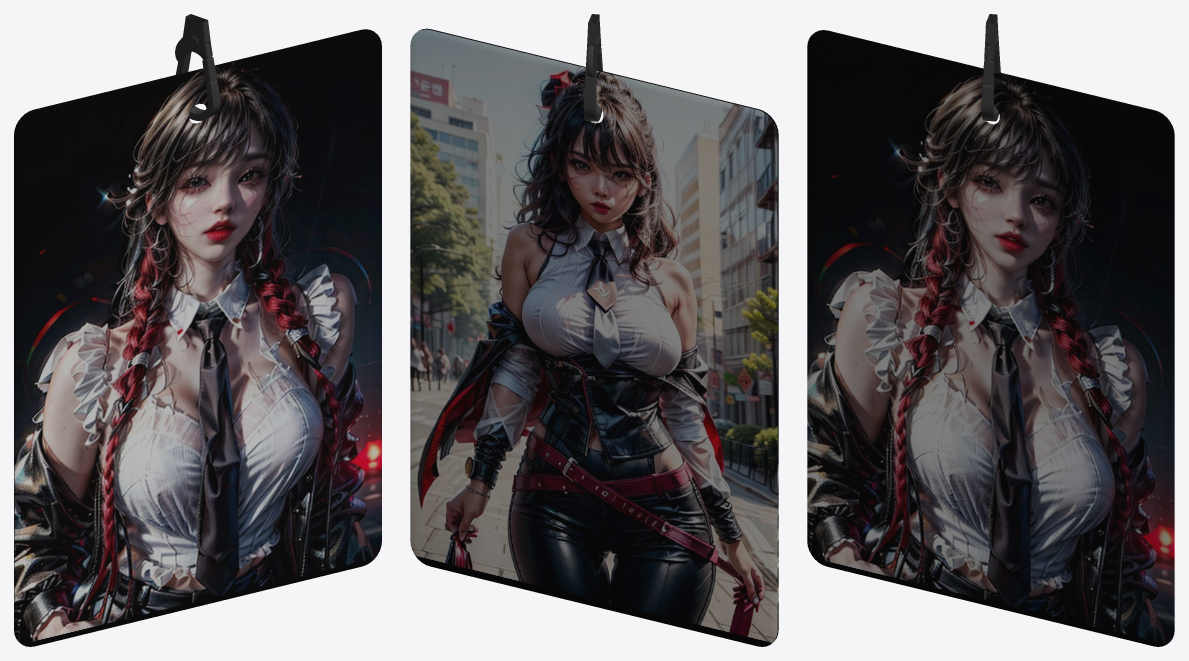
The picture shows the model from 3 angles, left to right: view 1: azimuth 30°, elevation 25°; view 2: azimuth 150°, elevation 25°; view 3: azimuth 330°, elevation 25°; orthographic projection.
Parts seen in each view (by area): view 1: card, clamp; view 2: card, clamp; view 3: card, clamp.
Boxes of the visible parts, bbox=[...] form: card: bbox=[14, 29, 381, 646]; clamp: bbox=[175, 14, 220, 120]; card: bbox=[410, 28, 778, 646]; clamp: bbox=[583, 14, 602, 121]; card: bbox=[807, 30, 1174, 646]; clamp: bbox=[981, 14, 1000, 121].
Bounding box in the file's own units: 0.7164 × 1.1 × 0.0903.
Materials: 2 (1 with a texture image).
